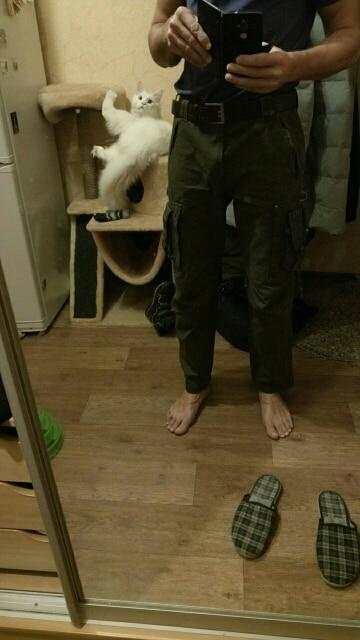pants: (168, 101, 302, 394)
